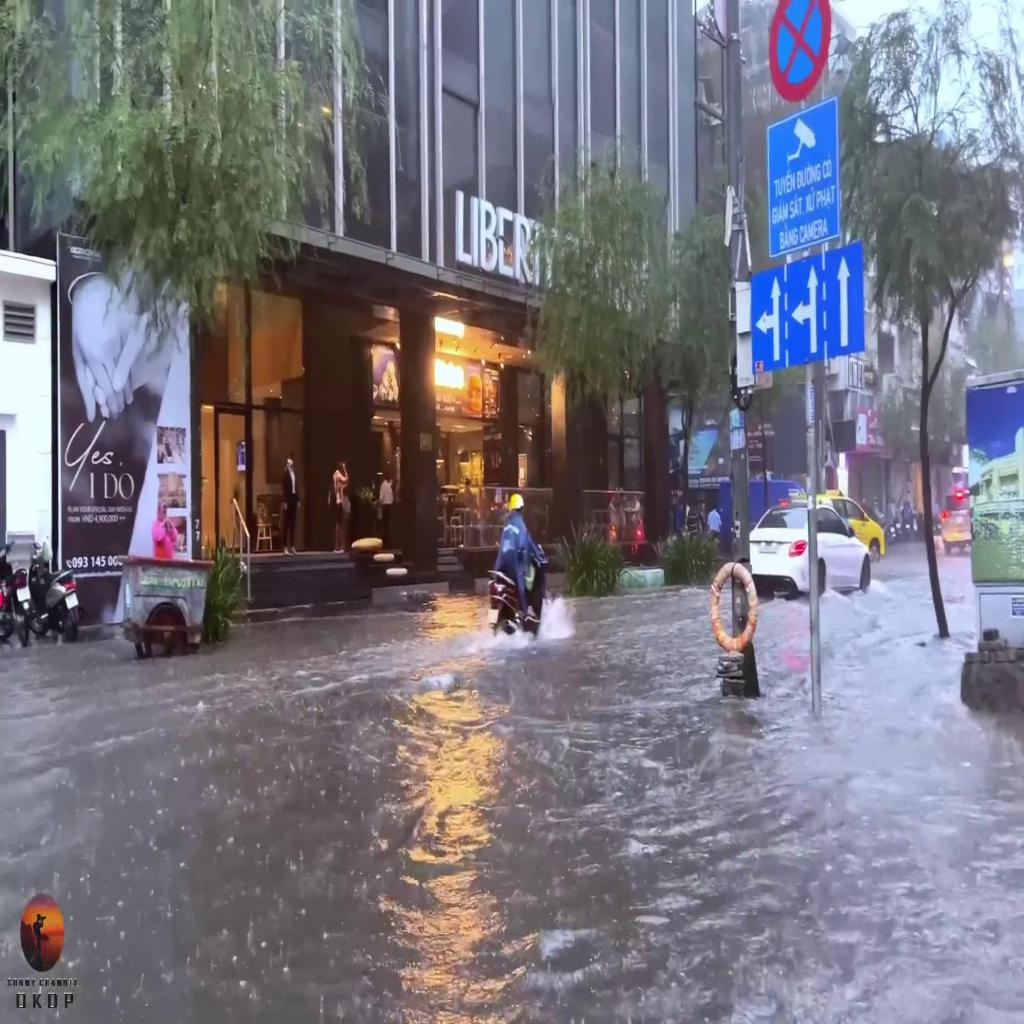cam_dung_xe_va_do_xe: (768, 1, 832, 101)
huong_di_tren_moi_lan_duong_theo_vach_ke_duong: (751, 241, 864, 373)
khac: (767, 98, 839, 257)
